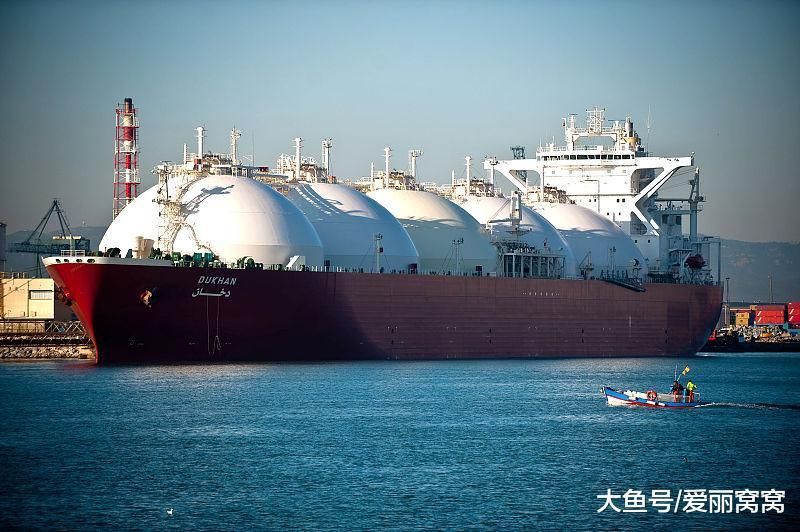Cargoship: (46, 94, 727, 373)
otherboat: (599, 371, 722, 415)
